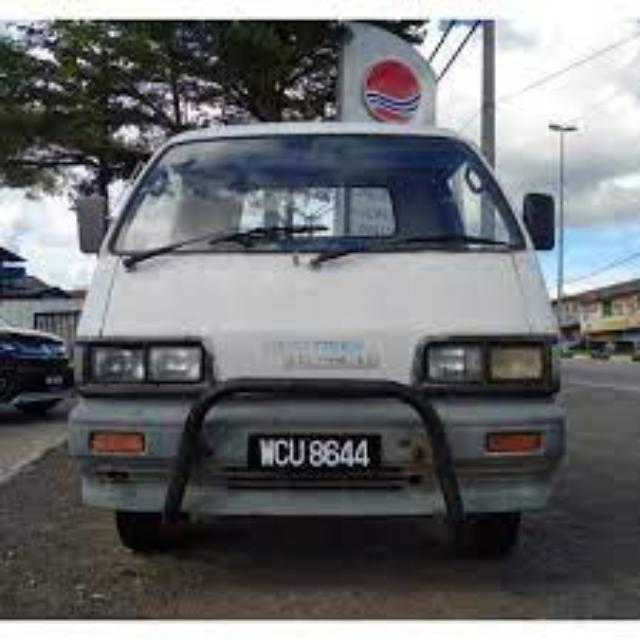License_Plate: (243, 424, 392, 482)
van: (61, 114, 561, 559)
